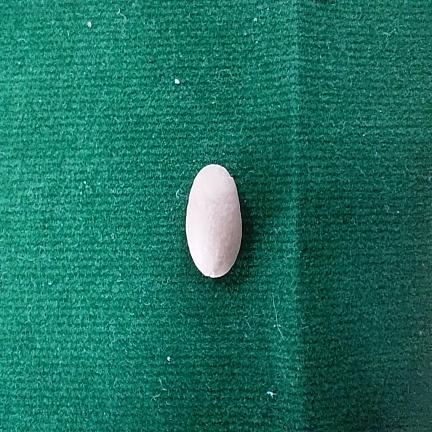immature: (185, 164, 242, 278)
